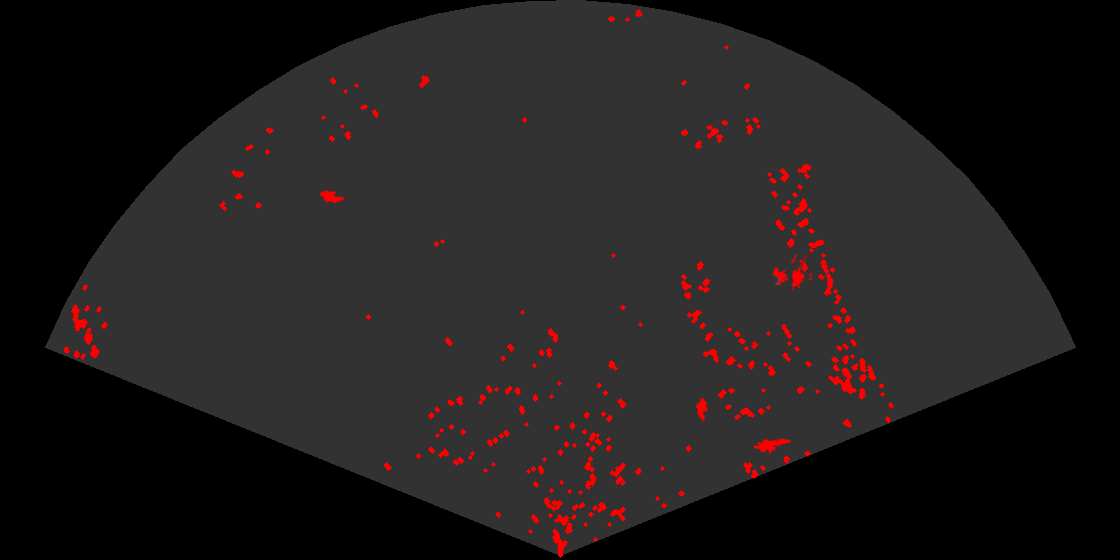AUV: (318, 188, 347, 205), (694, 396, 709, 423)
cage: (771, 255, 812, 292)
frogman: (754, 437, 791, 456)
